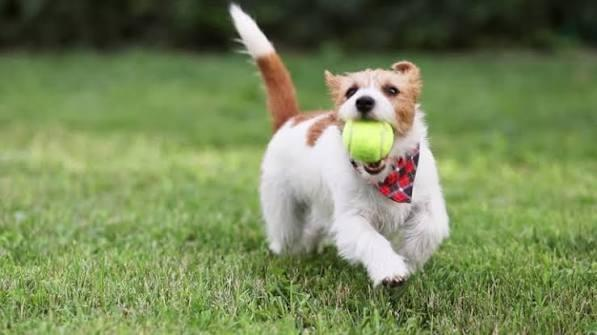adult_dog: (230, 1, 450, 296)
